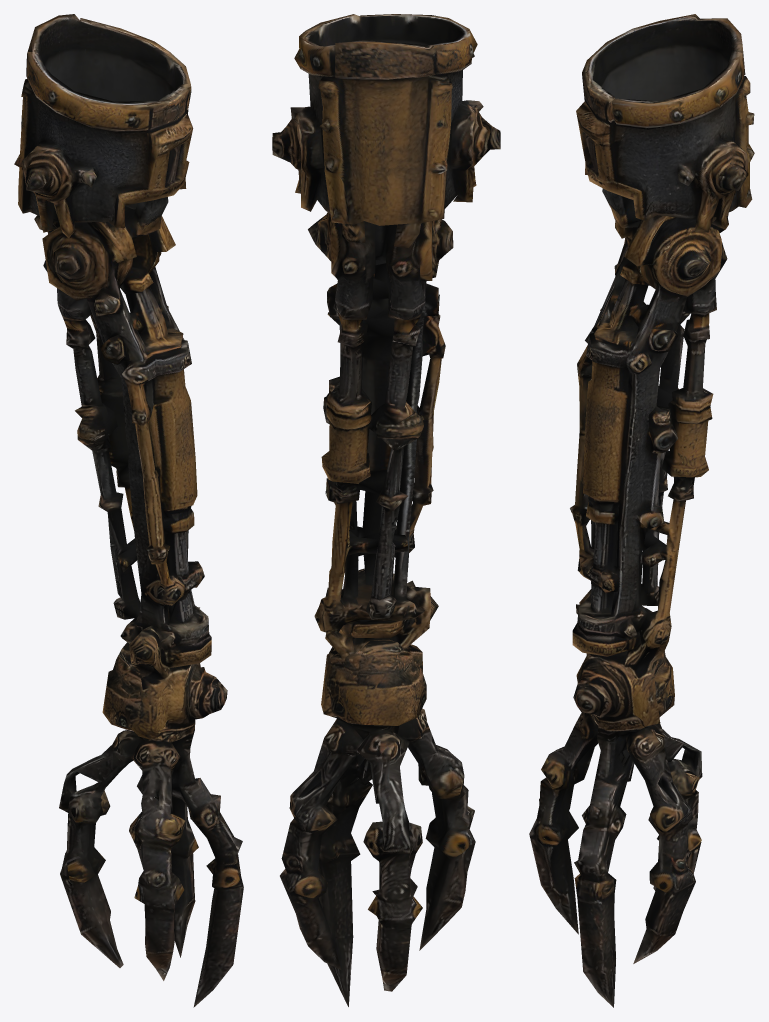
Rendered from raw_prosthetic.glb.
The picture shows the model from 3 angles, left to right: view 1: azimuth 30°, elevation 25°; view 2: azimuth 150°, elevation 25°; view 3: azimuth 270°, elevation 25°; orthographic projection. The views are drawn at different scales.
Parts seen in each view (by area): view 1: tripo_node_5f873899-1d2b-4a46-b995-f40d21fb13b5; view 2: tripo_node_5f873899-1d2b-4a46-b995-f40d21fb13b5; view 3: tripo_node_5f873899-1d2b-4a46-b995-f40d21fb13b5.
Boxes of the visible parts, left/top/right/bottom form: tripo_node_5f873899-1d2b-4a46-b995-f40d21fb13b5: left=14, top=14, right=243, bottom=1007; tripo_node_5f873899-1d2b-4a46-b995-f40d21fb13b5: left=272, top=14, right=500, bottom=1006; tripo_node_5f873899-1d2b-4a46-b995-f40d21fb13b5: left=529, top=14, right=754, bottom=1007.
Bounding box in the file's own units: 0.2114 × 1 × 0.2171.
Materials: 1 (1 with a texture image).
